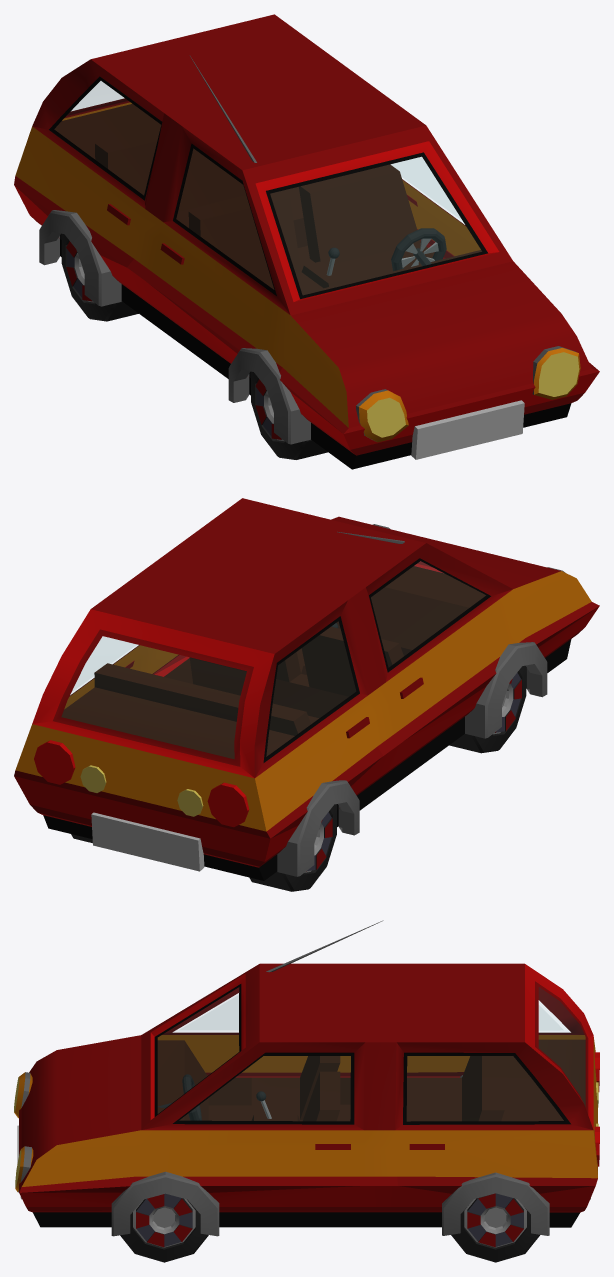
Rendered from car_combined.fbx.
3 views of the same model, one above another, from view 1: azimuth 30°, elevation 25°; view 2: azimuth 150°, elevation 25°; view 3: azimuth 270°, elevation 25° (orthographic). The views are drawn at different scales.
Parts seen in each view (by area): view 1: pCube11; view 2: pCube11; view 3: pCube11.
Boxes of the visible parts, x1,y1,x2,y2 form: pCube11: (14,14,599,469); pCube11: (14,498,599,891); pCube11: (14,920,599,1262).
Bounding box in the file's own units: 1.46 × 1.57 × 3.15.
